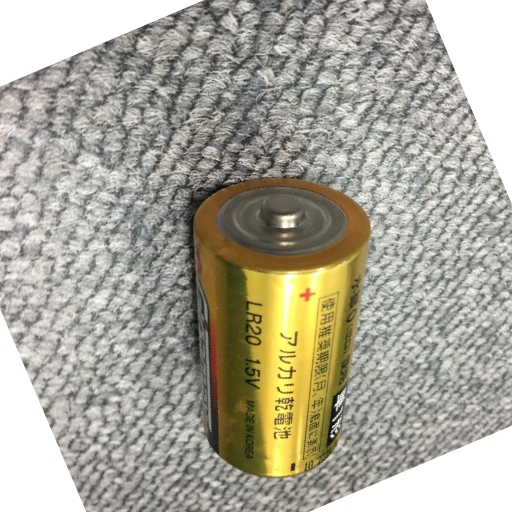Battery_0: (184, 167, 373, 481)
